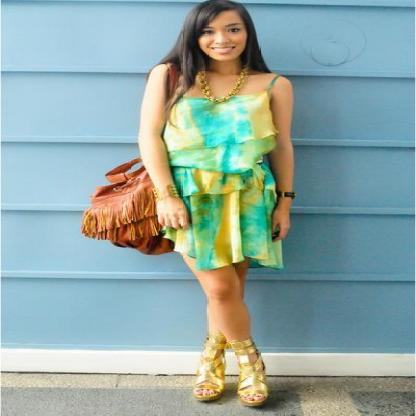bag: (81, 158, 174, 255)
dress: (162, 87, 294, 269)
shoe: (187, 335, 274, 405)
